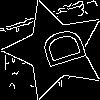D: (30, 25, 88, 74)
